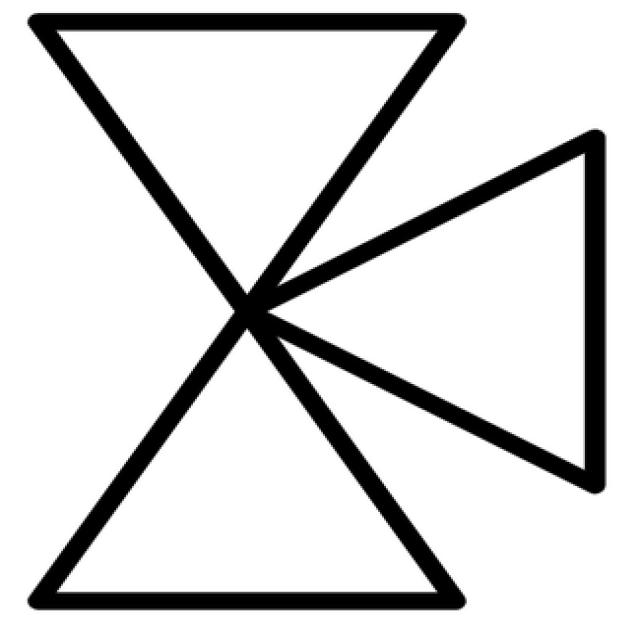3-way Valve: (37, 143, 593, 598), (43, 24, 455, 305)
